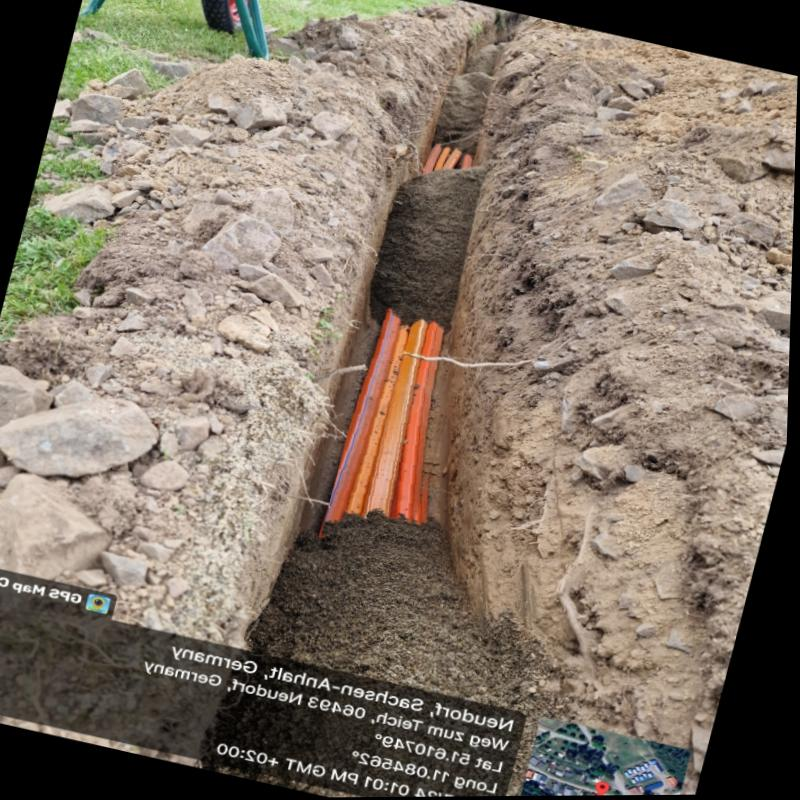Orang-Speednetrohrchen: (326, 311, 445, 528)
